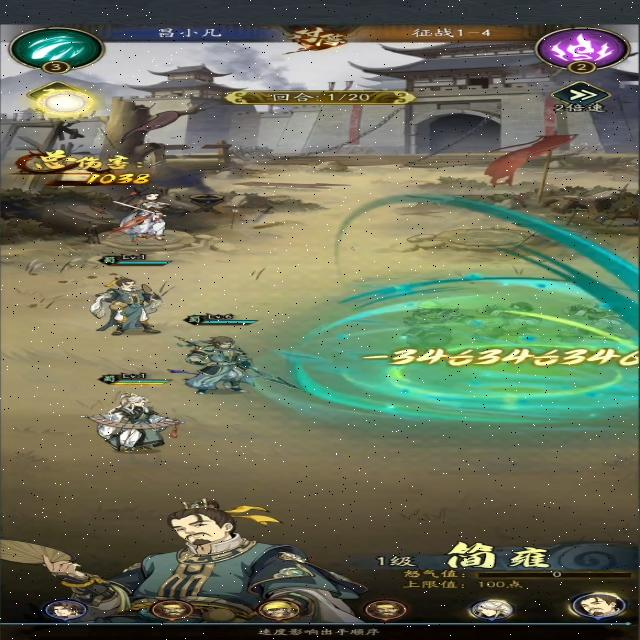hint-guide: (252, 625, 392, 638)
